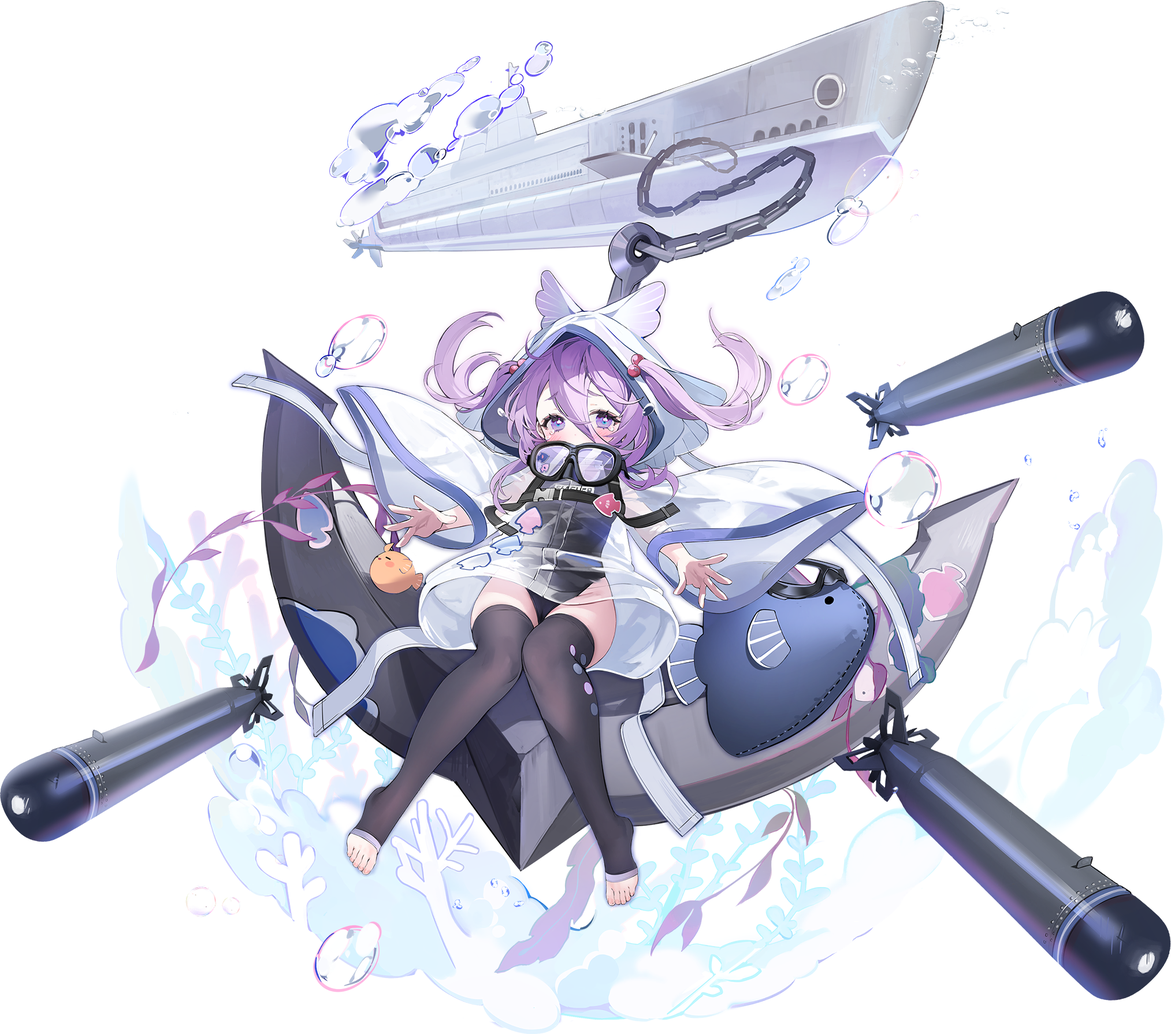person: (235, 231, 954, 989)
